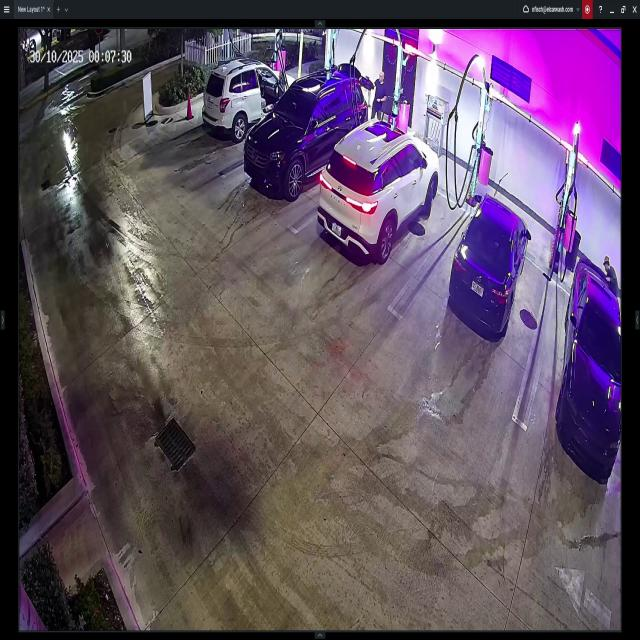Car: (245, 66, 374, 196), (320, 119, 439, 256), (556, 261, 622, 472), (450, 194, 532, 338), (201, 57, 295, 135)
